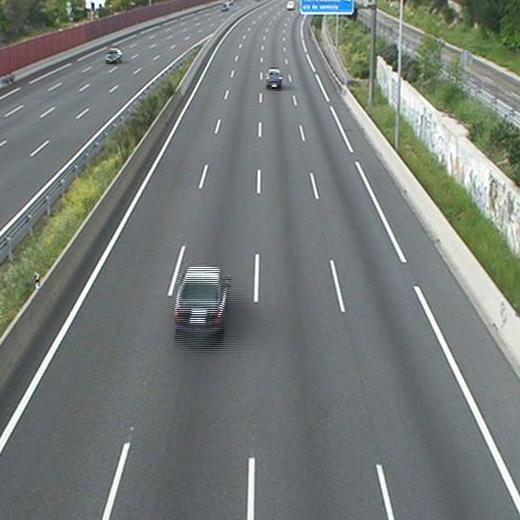car: (175, 268, 226, 327), (265, 69, 282, 87), (285, 1, 295, 10)
